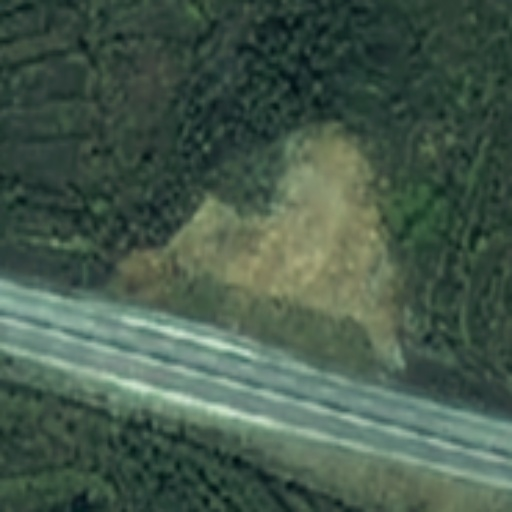landslide: (129, 131, 397, 341)
